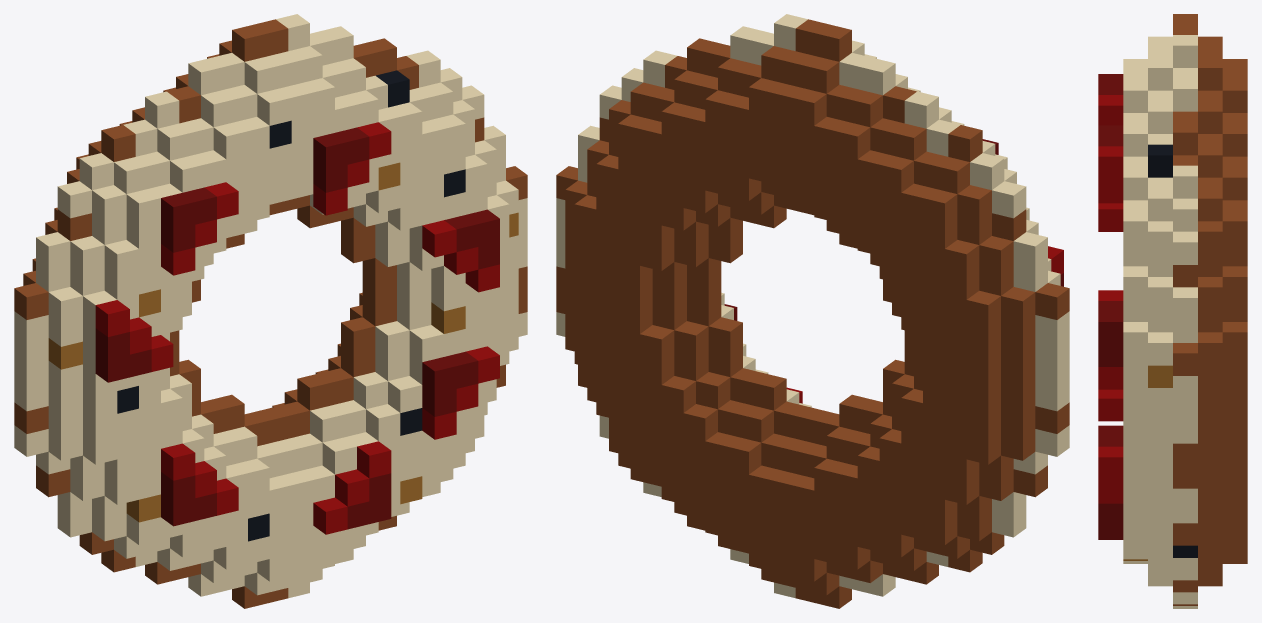
The model's file is CharDonut.obj.
3 renders of one model, left to right at view 1: azimuth 30°, elevation 25°; view 2: azimuth 150°, elevation 25°; view 3: azimuth 270°, elevation 25°, orthographic.
Parts seen in each view (by area): view 1: obj1; view 2: obj1; view 3: obj1.
Boxes of the visible parts, bbox=[...] form: obj1: bbox=[14, 14, 527, 608]; obj1: bbox=[556, 14, 1069, 608]; obj1: bbox=[1098, 14, 1247, 608].
Bounding box in the file's own units: 0.0345 × 0.0375 × 0.009.
